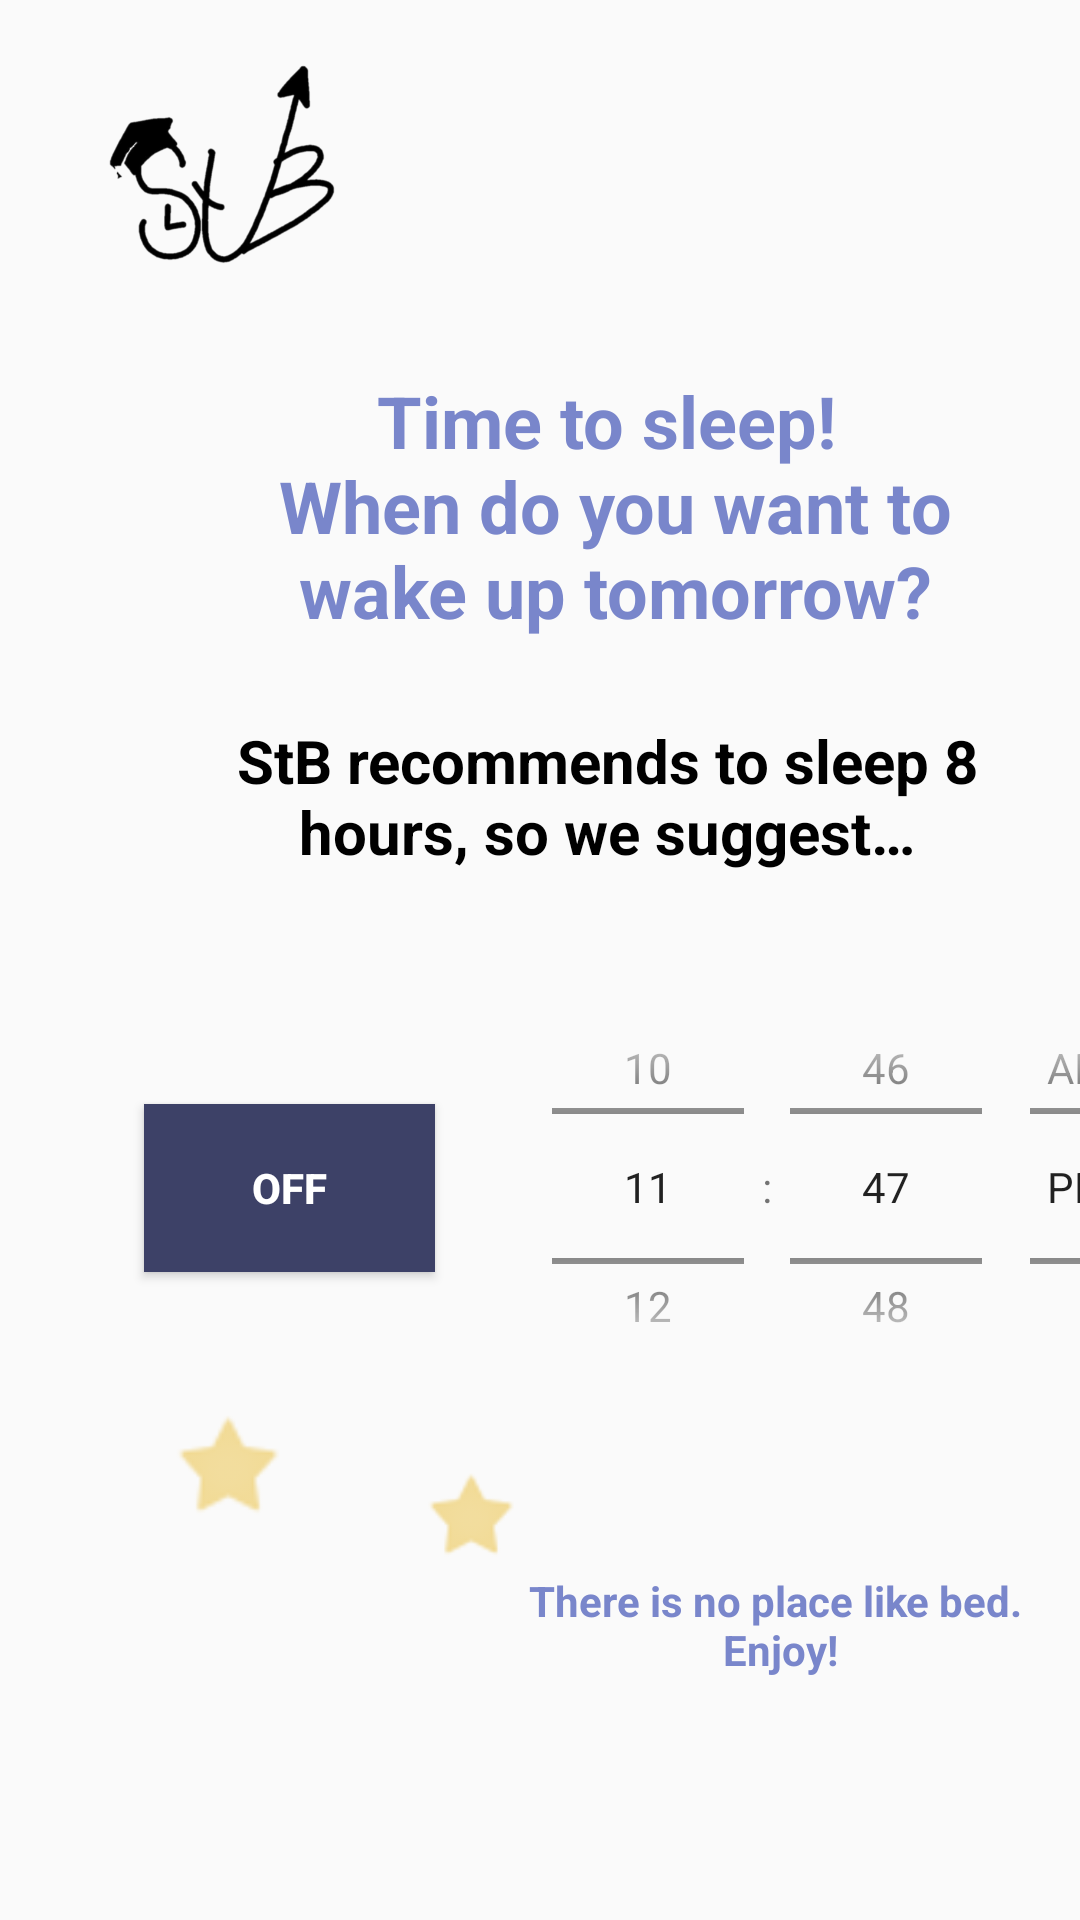

Icons on this 1080 x 1920 Android screen, each with the point to tap as (x=x, y=y):
star off: (x=228, y=1464), (x=471, y=1514)
